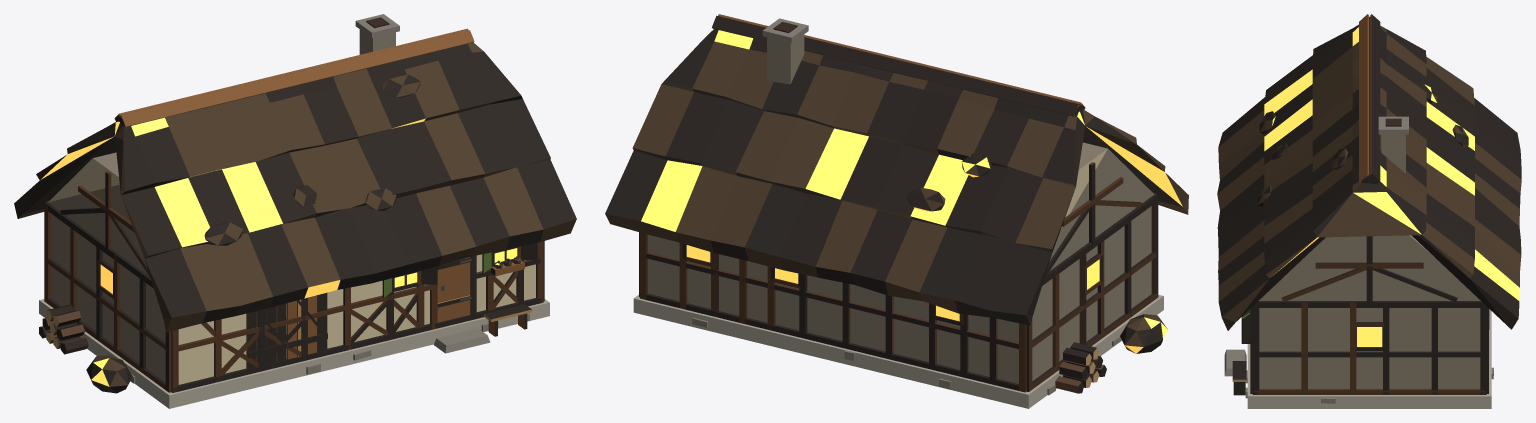
File: Dorf_Wohnstallhaus_Beschaedigt.fbx
The picture shows the model from 3 angles, left to right: view 1: azimuth 30°, elevation 25°; view 2: azimuth 150°, elevation 25°; view 3: azimuth 270°, elevation 25°; orthographic projection. The views are drawn at different scales.
Parts seen in each view (by area): view 1: Dorf_Wohnstallhaus_Beschaedigt; view 2: Dorf_Wohnstallhaus_Beschaedigt; view 3: Dorf_Wohnstallhaus_Beschaedigt.
Boxes of the visible parts, left/top/right/bottom form: Dorf_Wohnstallhaus_Beschaedigt: left=14, top=14, right=576, bottom=408; Dorf_Wohnstallhaus_Beschaedigt: left=605, top=14, right=1188, bottom=408; Dorf_Wohnstallhaus_Beschaedigt: left=1217, top=14, right=1521, bottom=408.
Size of the model in its own units: 11.71 by 6.73 by 7.61.
